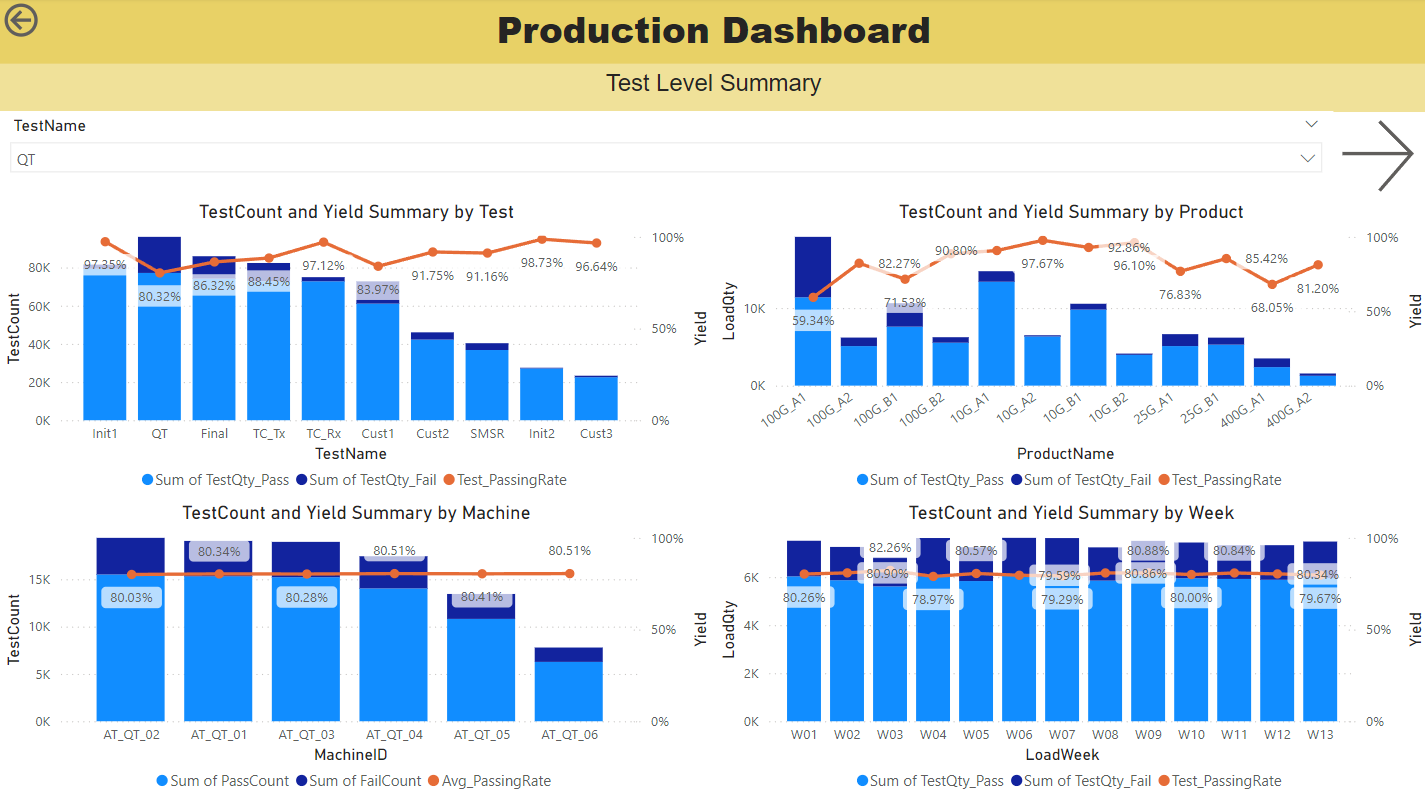

This screenshot's page, from the dashboard's own definition file:
{"tool":"powerbi","page":{"name":"Test Summary","canvas":[1280,720],"ordinal":1},"visuals":[{"type":"lineStackedColumnComboChart","title":"TestCount and Yield Summary by Week","fields":{"Category":["dbo summary_prod_test.LoadWeek"],"Y":["Sum(dbo summary_prod_test.TestQty_Pass)","Sum(dbo summary_prod_test.TestQty_Fail)"],"Y2":["dbo summary_prod_test.Test_PassingRate"]},"box":[639.9,450.4,639.9,269.6],"z":0},{"type":"textbox","box":[0,0,1280,59.4],"z":1000},{"type":"textbox","box":[0,59.4,1280,42.5],"z":2000},{"type":"lineStackedColumnComboChart","title":"TestCount and Yield Summary by Product","fields":{"Category":["dbo summary_prod_test.ProductName"],"Y":["Sum(dbo summary_prod_test.TestQty_Pass)","Sum(dbo summary_prod_test.TestQty_Fail)"],"Y2":["dbo summary_prod_test.Test_PassingRate"]},"box":[639.9,180.9,639.9,269.6],"z":3000},{"type":"actionButton","box":[1194.9,101.9,85.1,78.9],"z":4000},{"type":"slicer","fields":{"Values":["dbo summary_prod_test.TestName"]},"box":[0,101.6,1194.5,79.2],"z":5000},{"type":"actionButton","box":[0,0,40.5,39.6],"z":6000},{"type":"lineStackedColumnComboChart","title":"TestCount and Yield Summary by Test","fields":{"Category":["dbo summary_prod_test.TestName"],"Y2":["dbo summary_prod_test.Test_PassingRate"],"Y":["Sum(dbo summary_prod_test.TestQty_Pass)","Sum(dbo summary_prod_test.TestQty_Fail)"]},"box":[0,180.9,640.3,269.6],"z":7000},{"type":"lineStackedColumnComboChart","title":"TestCount and Yield Summary by Machine","fields":{"Category":["dbo summary_machine.MachineID"],"Y":["Sum(dbo summary_machine.PassCount)","Sum(dbo summary_machine.FailCount)"],"Y2":["dbo summary_machine.Avg_PassingRate"]},"box":[0,450.4,639.9,269.6],"z":8000}]}

Visuals, with their boxes in screenshot pixels (x1, y1, x2, y2), scaled from the page's 1280x720 canvas onto the 1425x799 screenshot:
"TestCount and Yield Summary by Week" lineStackedColumnComboChart: <region>712, 500, 1424, 798</region>
textbox: <region>0, 0, 1424, 66</region>
textbox: <region>0, 66, 1424, 113</region>
"TestCount and Yield Summary by Product" lineStackedColumnComboChart: <region>712, 201, 1424, 500</region>
actionButton: <region>1330, 113, 1424, 201</region>
slicer - dbo summary_prod_test.TestName: <region>0, 113, 1330, 201</region>
actionButton: <region>0, 0, 45, 44</region>
"TestCount and Yield Summary by Test" lineStackedColumnComboChart: <region>0, 201, 713, 500</region>
"TestCount and Yield Summary by Machine" lineStackedColumnComboChart: <region>0, 500, 712, 798</region>
